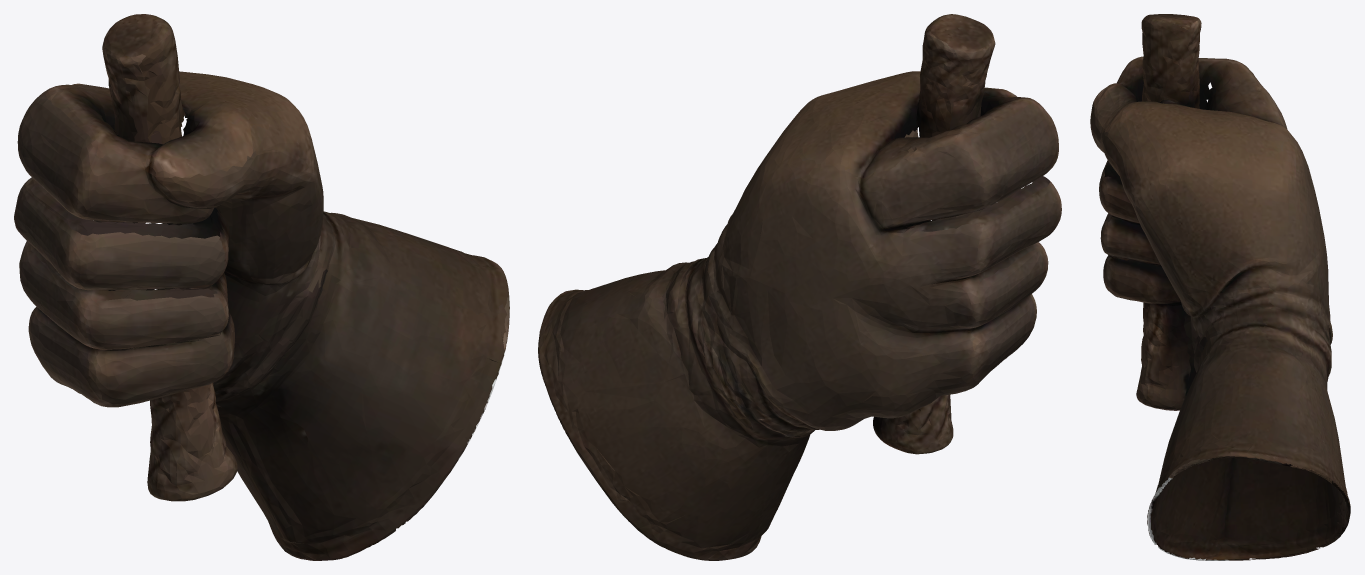
The model's file is glove-hd3.glb.
3 views of the same model, side by side, from view 1: azimuth 30°, elevation 25°; view 2: azimuth 150°, elevation 25°; view 3: azimuth 270°, elevation 25° (orthographic). The views are drawn at different scales.
Visible parts, largest first — view 1: tmpto8vb2v2.ply.008; view 2: tmpto8vb2v2.ply.008; view 3: tmpto8vb2v2.ply.008.
Part boxes in pixels (x1,y1,x2,y2): tmpto8vb2v2.ply.008: [14, 14, 509, 560]; tmpto8vb2v2.ply.008: [538, 14, 1061, 560]; tmpto8vb2v2.ply.008: [1090, 14, 1350, 560].
Bounding box in the file's own units: 1.65 × 1.93 × 0.9612.
Materials: 1 (1 with a texture image).
